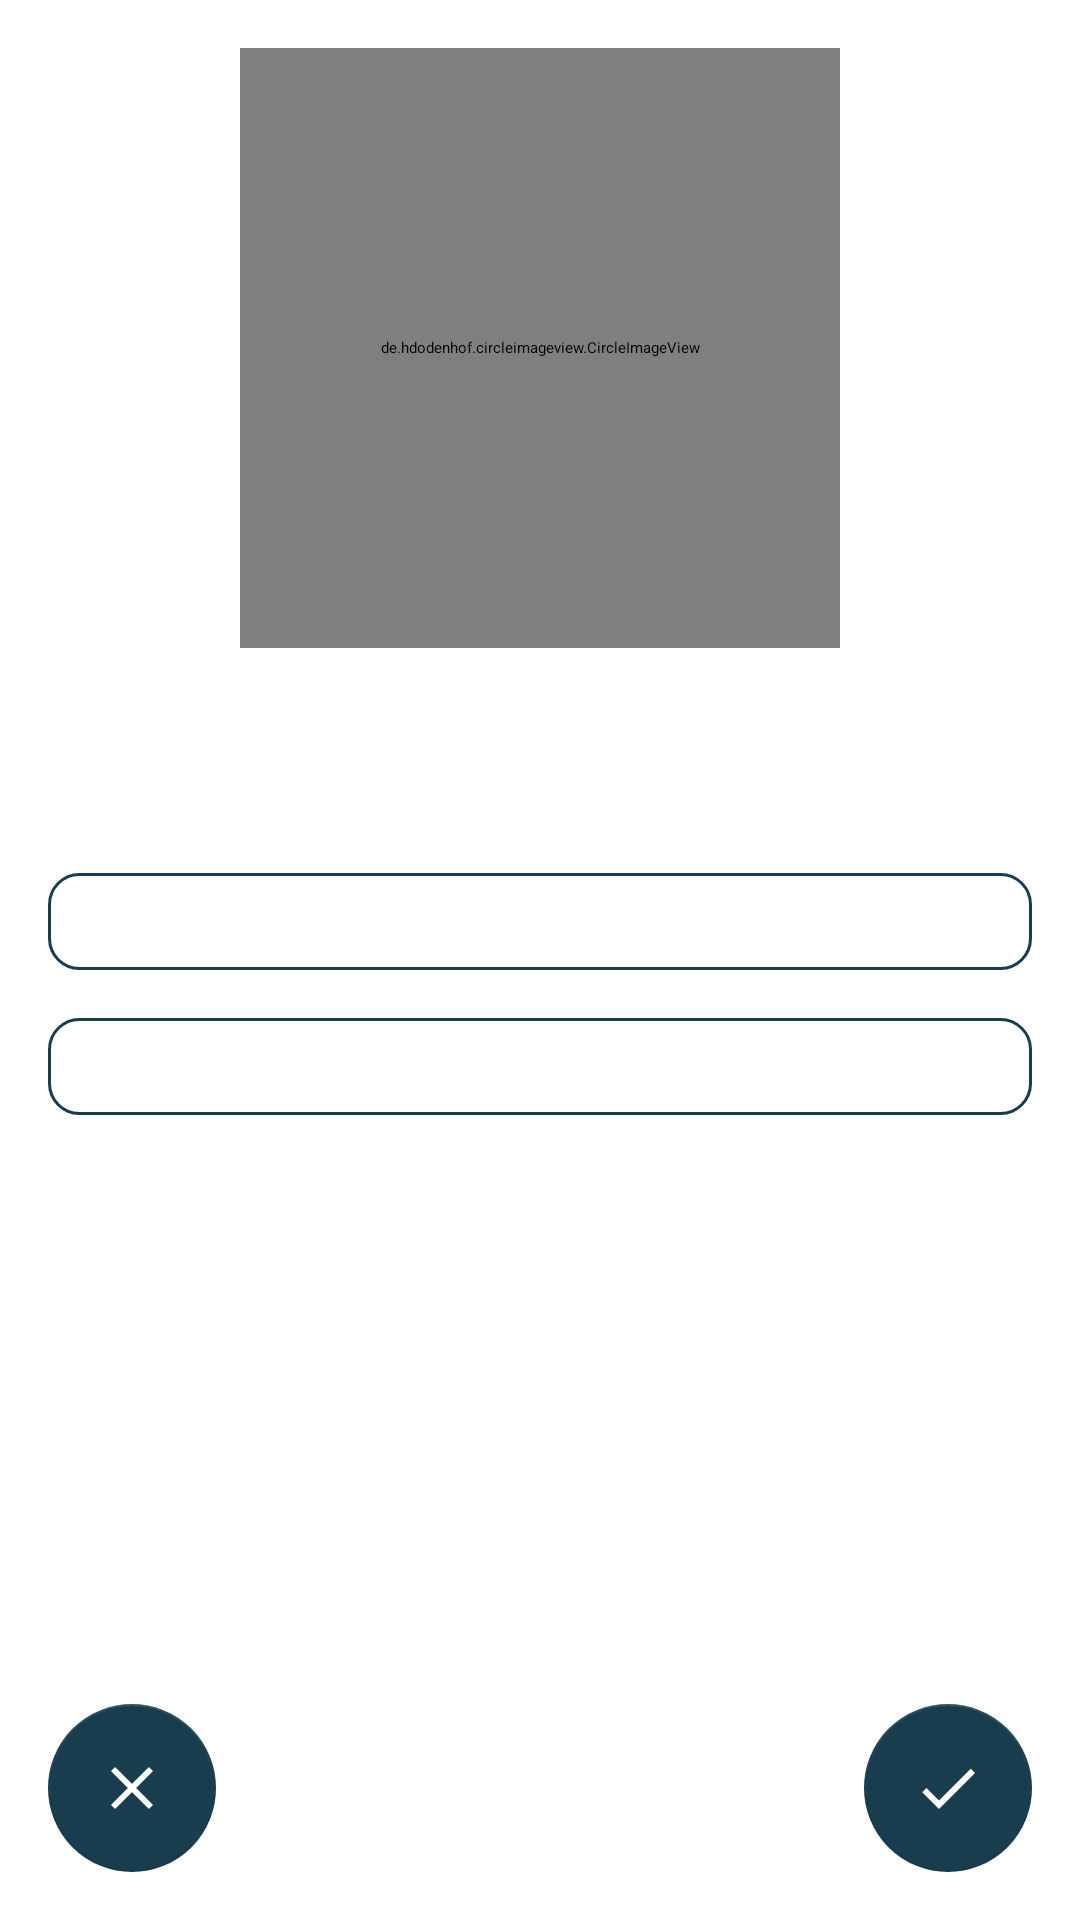

Point at icon controls on the screen. Image size 1080x1920, points as [x,y].
choice: [948,1788]
clear: [132,1788]
